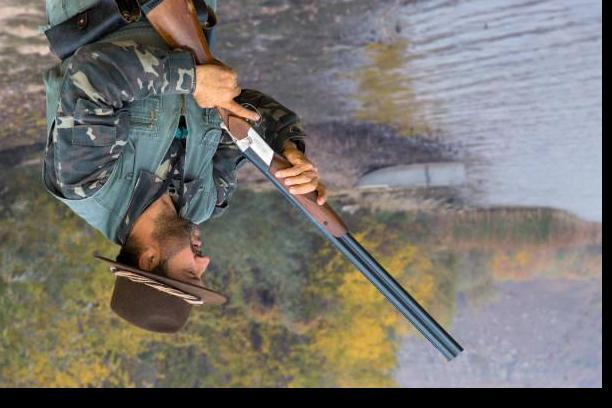larga: (140, 0, 466, 362)
